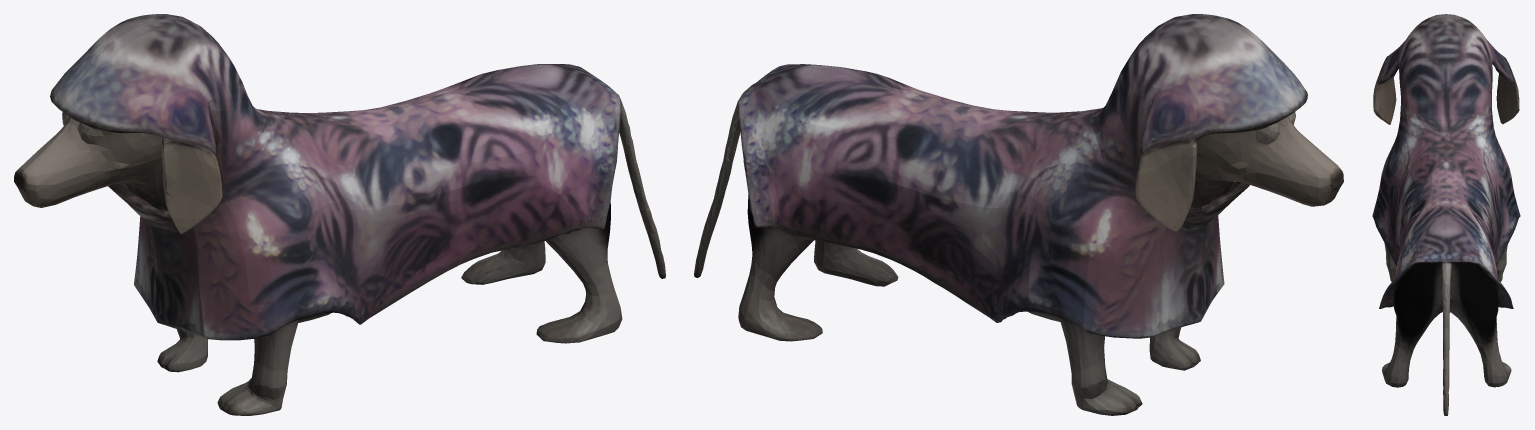
File: daschund with hoodie.glb
3 views of the same model, side by side, from view 1: azimuth 30°, elevation 25°; view 2: azimuth 150°, elevation 25°; view 3: azimuth 270°, elevation 25° (orthographic). The views are drawn at different scales.
Visible parts, largest first — view 1: world; view 2: world; view 3: world.
Boxes of the visible parts, x1,y1,x2,y2 form: world: [14, 14, 665, 415]; world: [694, 14, 1343, 415]; world: [1372, 14, 1520, 415].
Size of the model in its own units: 1 by 0.5618 by 0.3151.
Materials: 1 (1 with a texture image).
